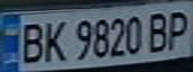0: (124, 12, 145, 56)
2: (109, 14, 130, 58)
8: (90, 16, 112, 60)
9: (69, 16, 93, 62)
B: (15, 19, 48, 64), (145, 8, 172, 53)
K: (39, 17, 69, 64)
P: (163, 7, 193, 52)
